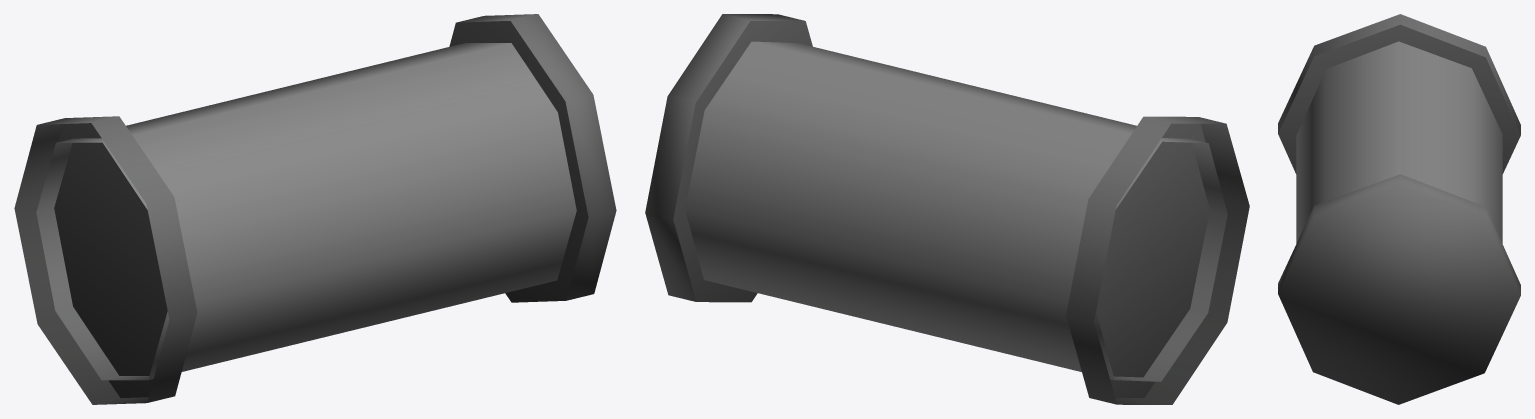
The model's file is Pipe_Horizontal.glb.
3 renders of one model, left to right at view 1: azimuth 30°, elevation 25°; view 2: azimuth 150°, elevation 25°; view 3: azimuth 270°, elevation 25°, orthographic. The views are drawn at different scales.
Parts seen in each view (by area): view 1: Pipe_Horizontal; view 2: Pipe_Horizontal; view 3: Pipe_Horizontal.
Boxes of the visible parts, x1,y1,x2,y2 form: Pipe_Horizontal: (14,14,616,404); Pipe_Horizontal: (645,14,1249,404); Pipe_Horizontal: (1278,14,1520,404).
Bounding box in the file's own units: 0.5 × 0.3004 × 0.3004.
1 material, 1 textured.
